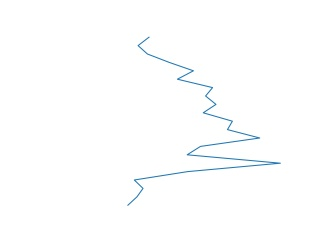floodSwamp: (126, 34, 283, 204)
